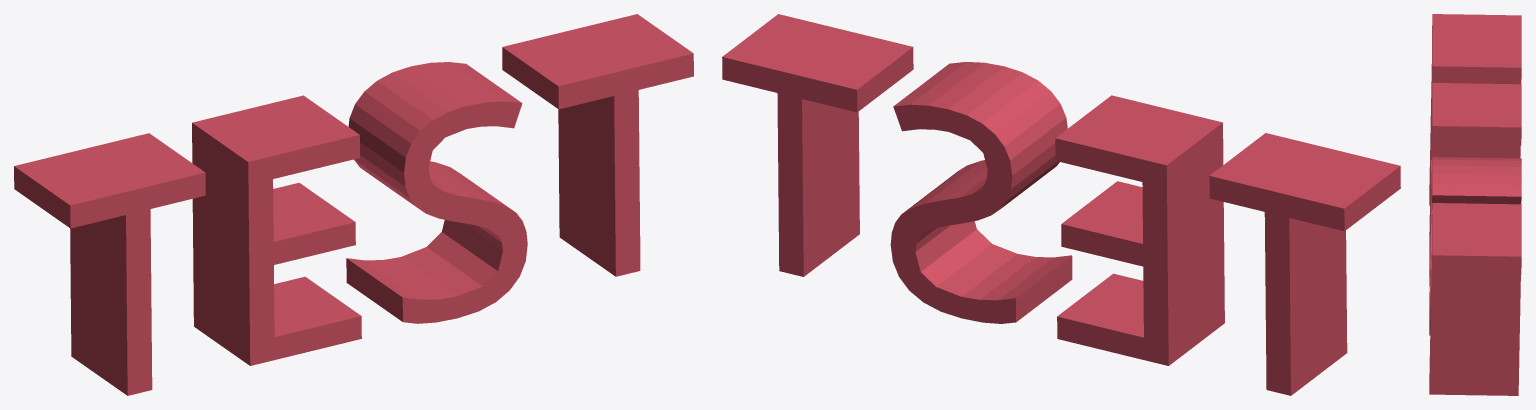
File: testglb.glb
The picture shows the model from 3 angles, left to right: view 1: azimuth 30°, elevation 25°; view 2: azimuth 150°, elevation 25°; view 3: azimuth 270°, elevation 25°; orthographic projection. The views are drawn at different scales.
Parts seen in each view (by area): view 1: Mesh_Mesh_head_geo.001_lambert2SG.001; view 2: Mesh_Mesh_head_geo.001_lambert2SG.001; view 3: Mesh_Mesh_head_geo.001_lambert2SG.001.
Boxes of the visible parts, bbox=[...] form: Mesh_Mesh_head_geo.001_lambert2SG.001: bbox=[14, 14, 693, 395]; Mesh_Mesh_head_geo.001_lambert2SG.001: bbox=[722, 14, 1400, 395]; Mesh_Mesh_head_geo.001_lambert2SG.001: bbox=[1429, 14, 1521, 395].
Size of the model in its own units: 63.9 by 20.57 by 10.36.
